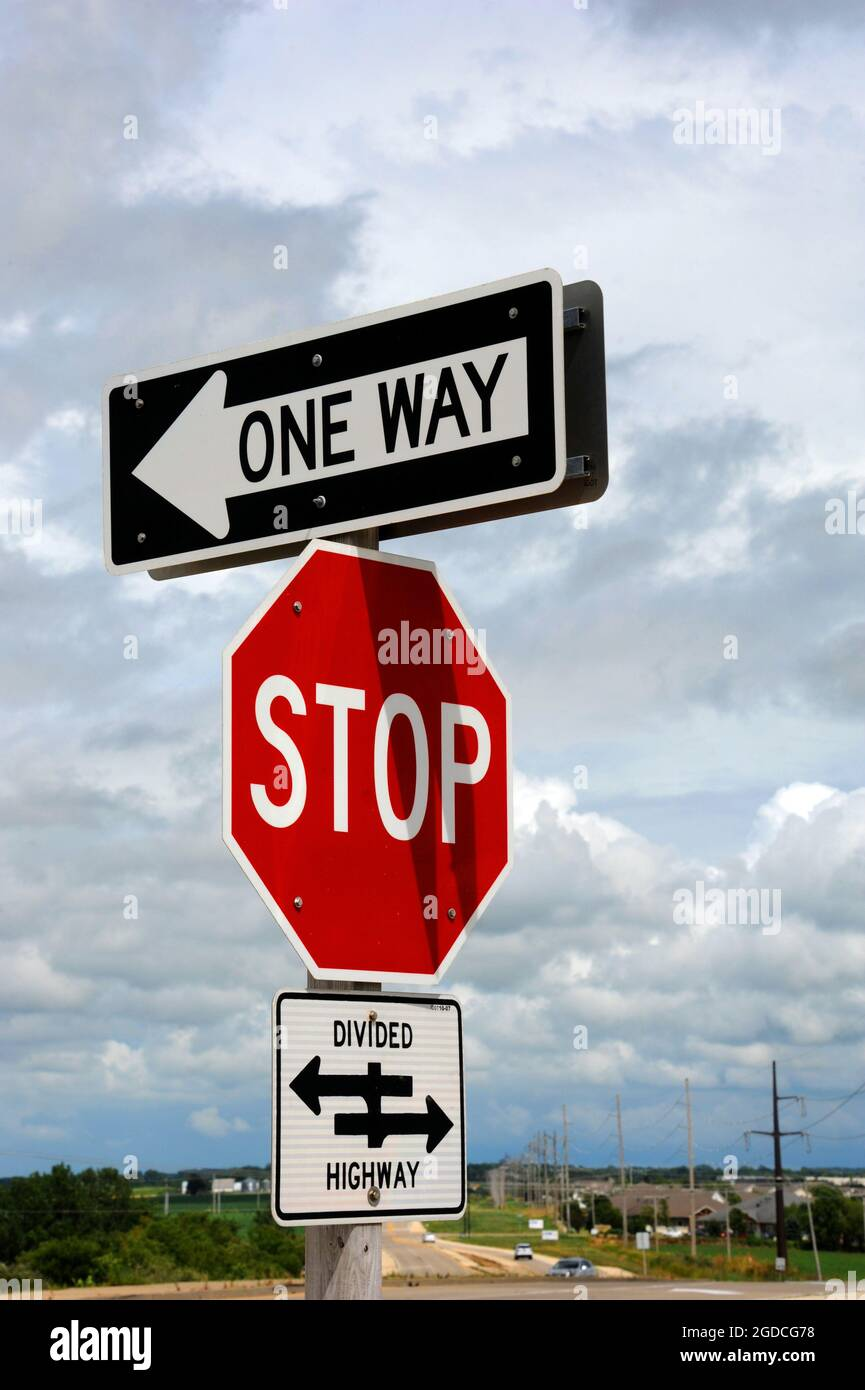Stop: (218, 532, 516, 986)
